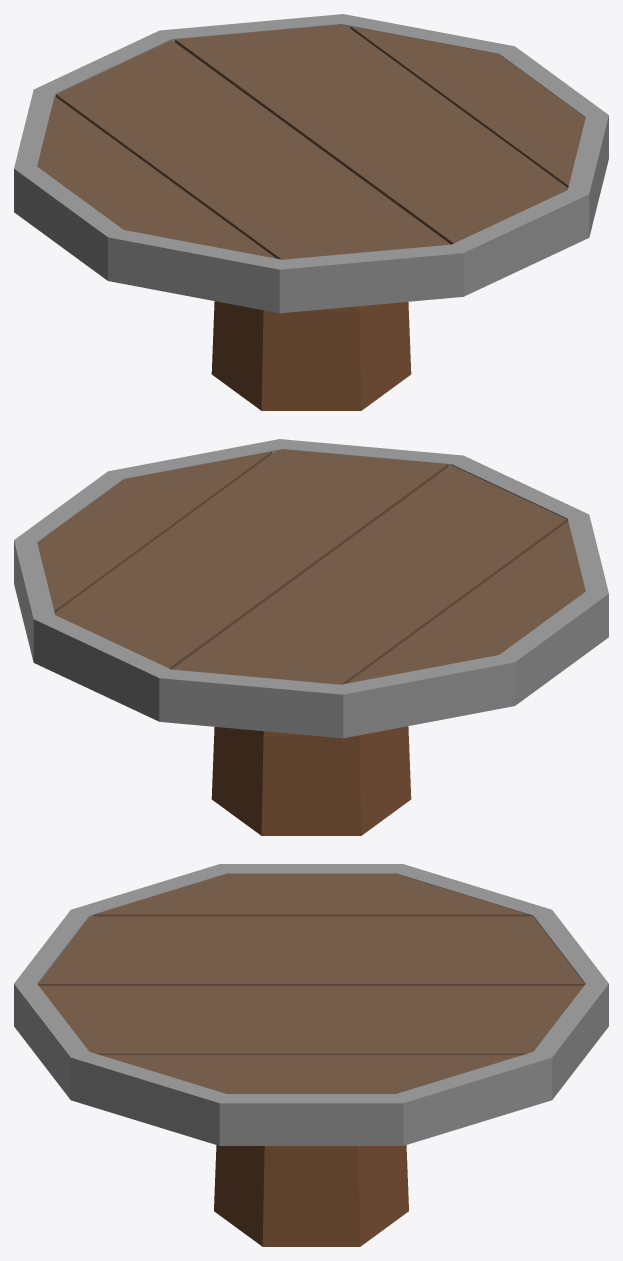
File: Done_Table.glb
3 views of the same model, one above another, from view 1: azimuth 30°, elevation 25°; view 2: azimuth 150°, elevation 25°; view 3: azimuth 270°, elevation 25° (orthographic). The views are drawn at different scales.
Parts seen in each view (by area): view 1: Table; view 2: Table; view 3: Table.
Boxes of the visible parts, x1,y1,x2,y2 form: Table: (14,14,608,410); Table: (14,439,608,835); Table: (14,864,608,1246).
Size of the model in its own units: 3.15 by 1.4 by 3.31.
